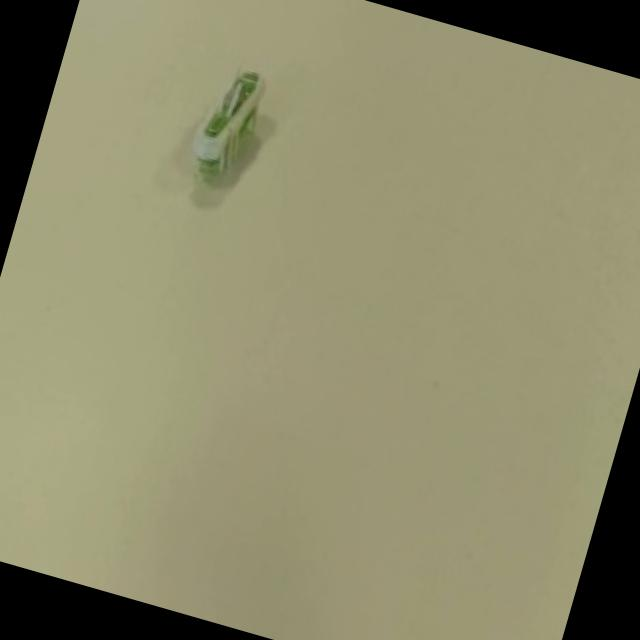4_NanoBug_Blanco: (120, 24, 340, 236)
